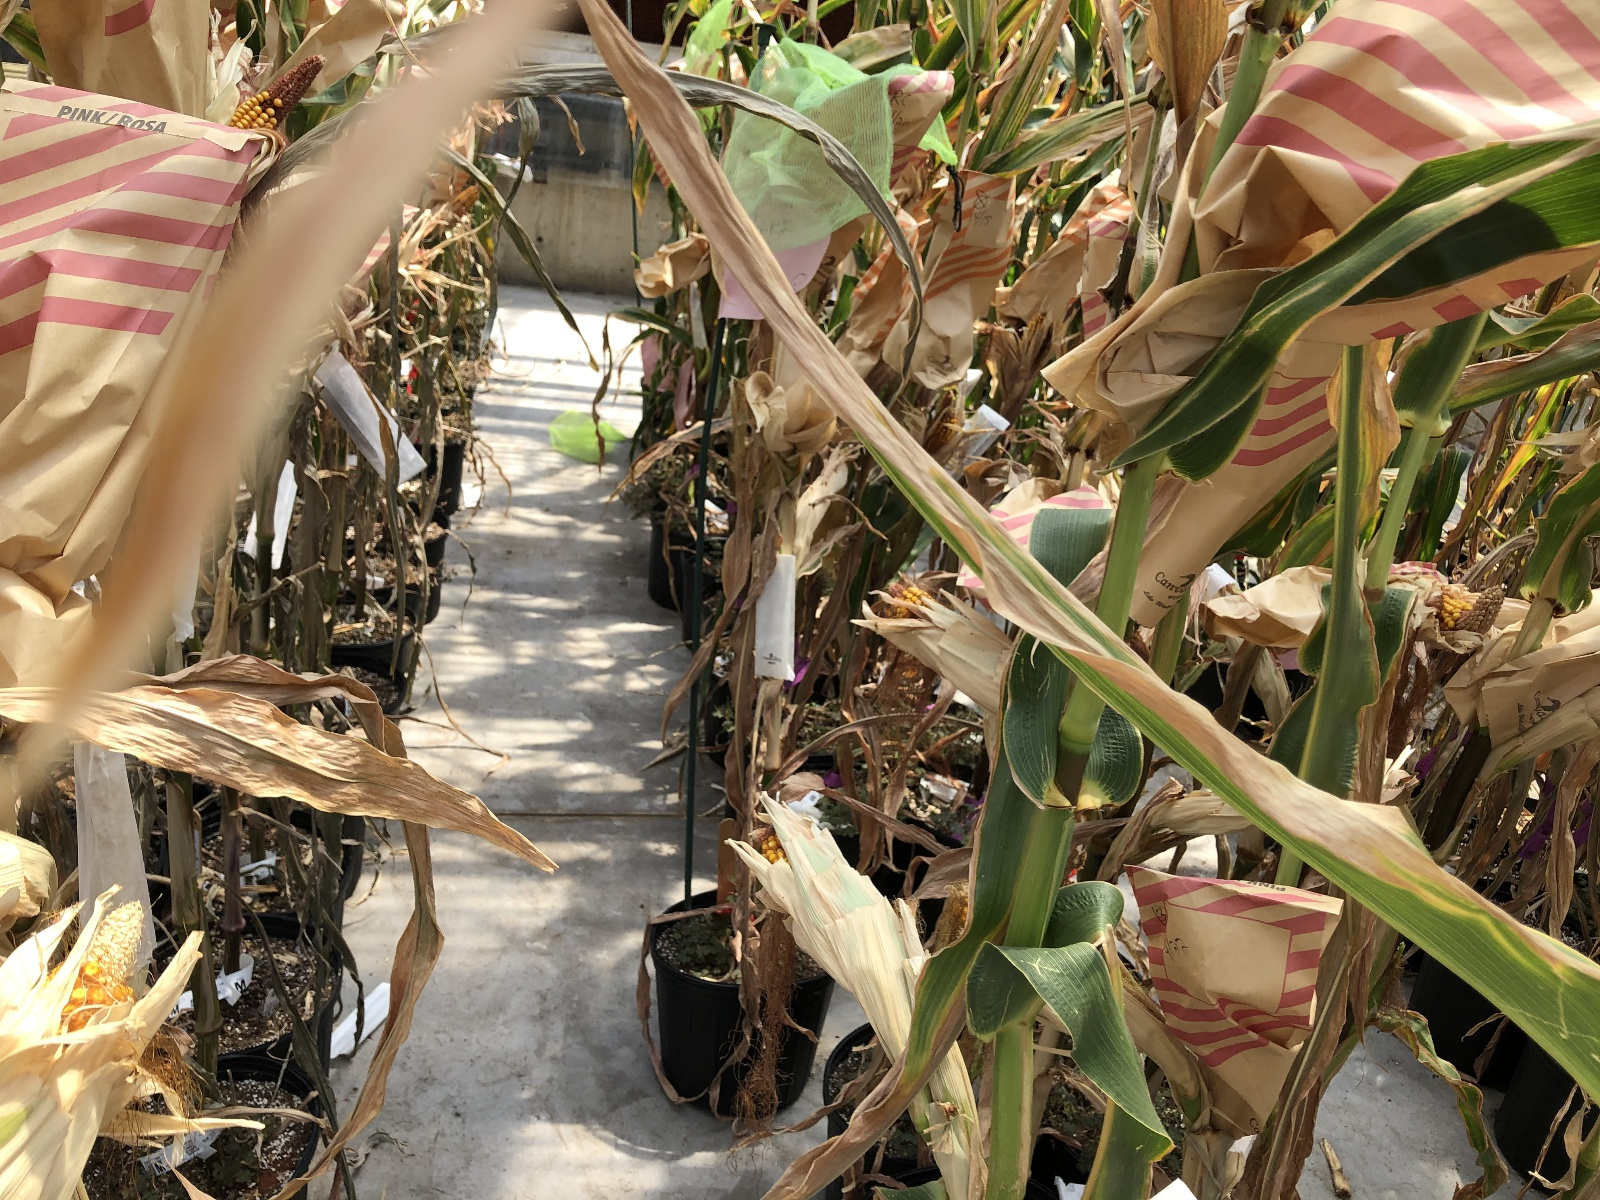ear: (1, 887, 145, 1168), (747, 807, 910, 1024), (872, 575, 1015, 708), (224, 50, 334, 131), (1425, 577, 1514, 640), (922, 382, 963, 453), (440, 179, 485, 229)
